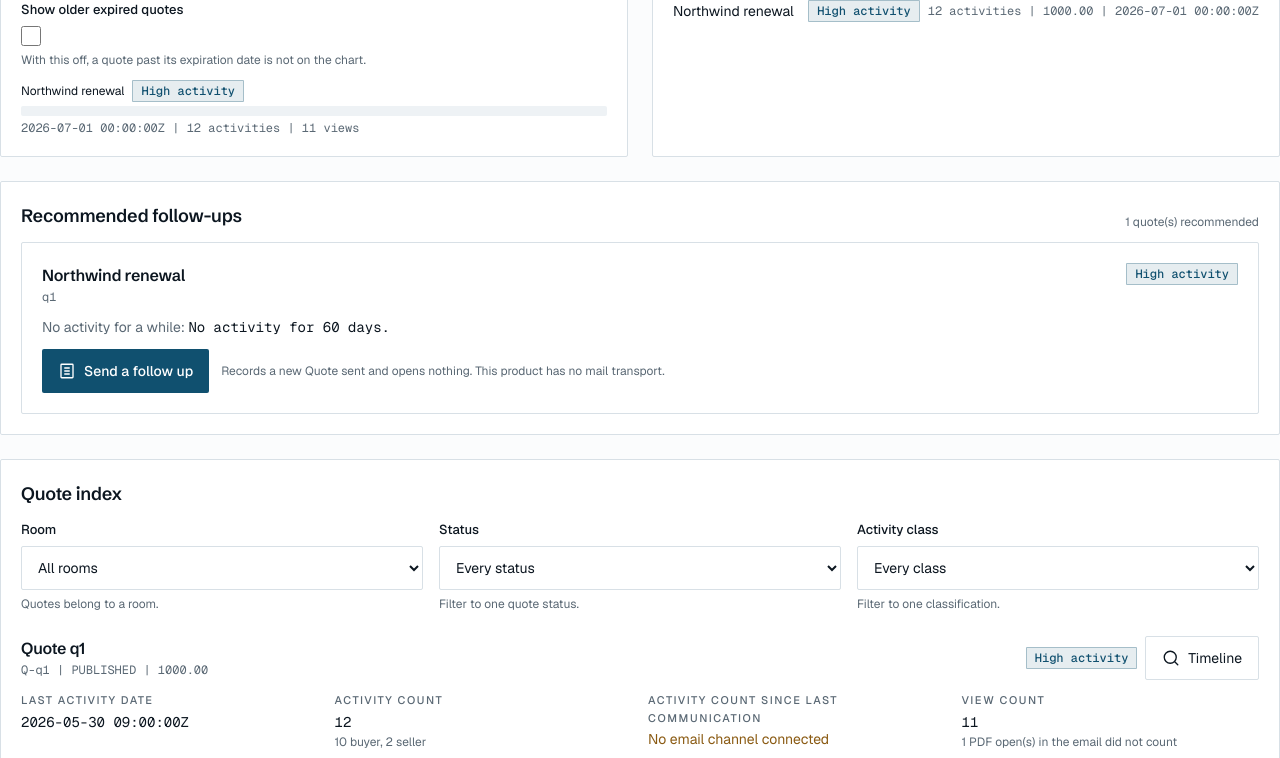
Test: the page › records a new Quote sent when the seller acts on a recommendation
(page scrolled)
Click the button "Send a follow up". click: (126, 371)
box: [42,349,209,393]
(page scrolled)
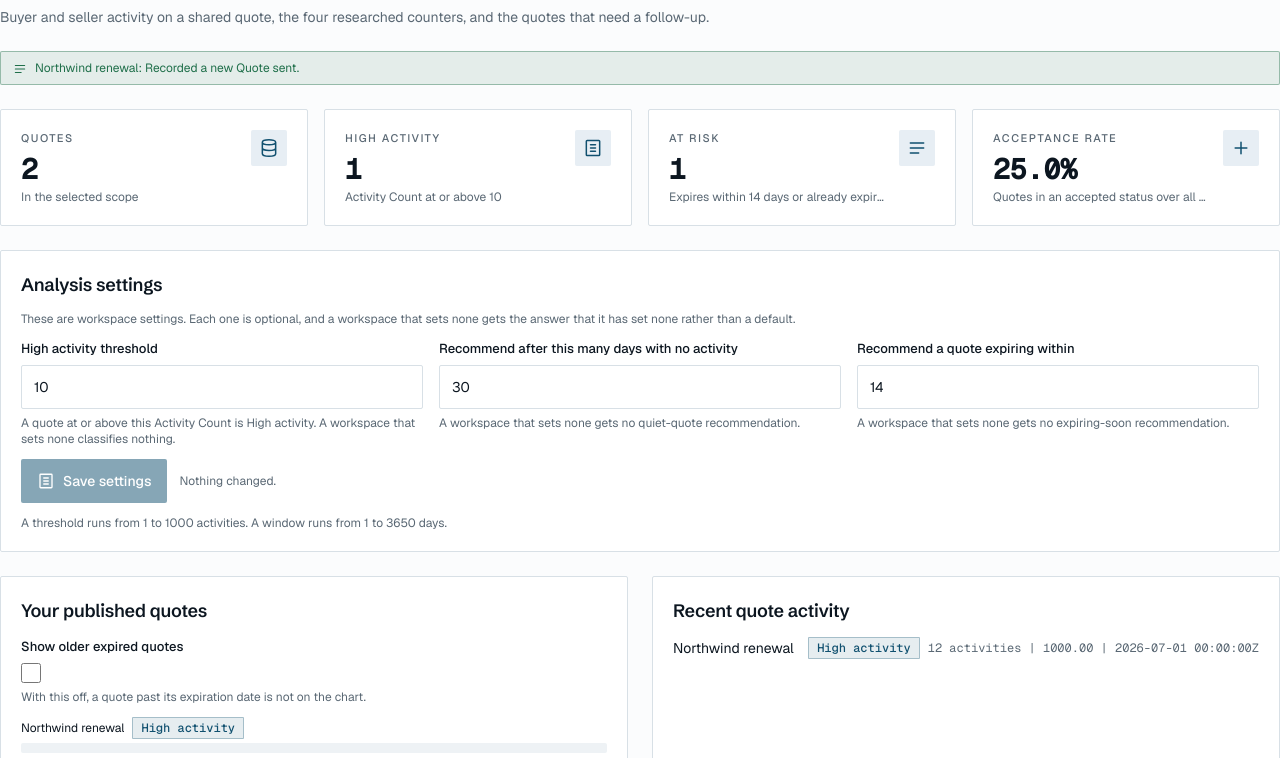
Result: the text "Northwind renewal: Recorded a new Quote sent." is shown at [35,60,299,76]
